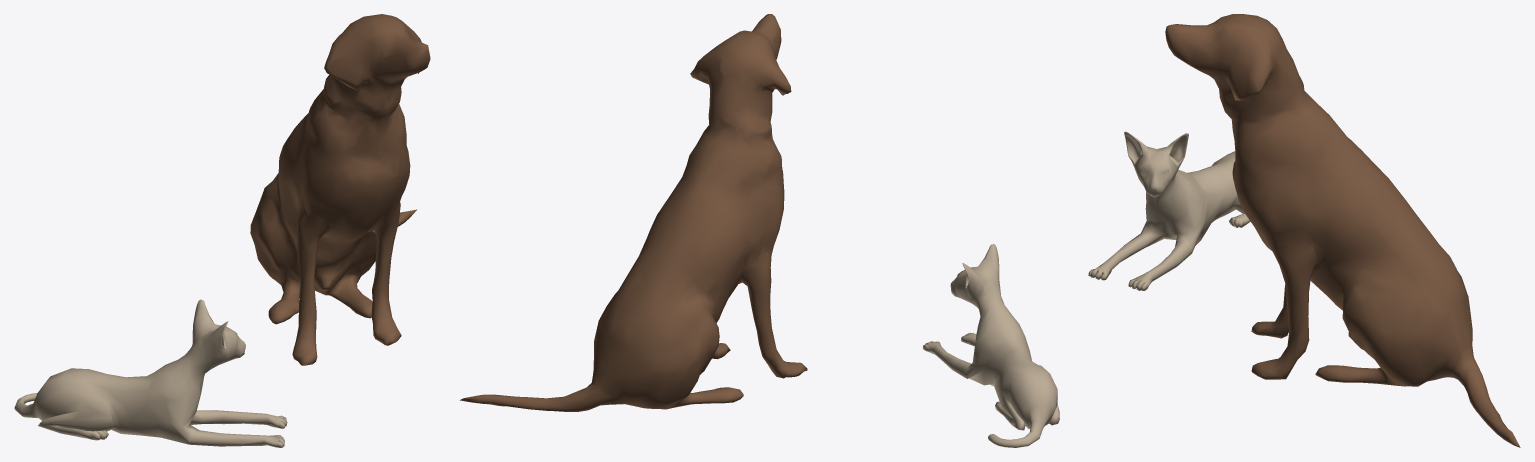
The model's file is cane_gatto.obj.
The picture shows the model from 3 angles, left to right: view 1: azimuth 30°, elevation 25°; view 2: azimuth 150°, elevation 25°; view 3: azimuth 270°, elevation 25°; orthographic projection. The views are drawn at different scales.
Parts seen in each view (by area): view 1: Mesh1 G_1116_Dog_006_Sitting1 Model, Mesh2 Cat_083_055_1 Model; view 2: Mesh1 G_1116_Dog_006_Sitting1 Model, Mesh2 Cat_083_055_1 Model; view 3: Mesh1 G_1116_Dog_006_Sitting1 Model, Mesh2 Cat_083_055_1 Model.
Boxes of the visible parts, x1,y1,x2,y2 form: Mesh1 G_1116_Dog_006_Sitting1 Model: (250,14,430,365); Mesh2 Cat_083_055_1 Model: (14,299,287,447); Mesh1 G_1116_Dog_006_Sitting1 Model: (460,14,807,411); Mesh2 Cat_083_055_1 Model: (922,244,1059,447); Mesh1 G_1116_Dog_006_Sitting1 Model: (1165,14,1520,447); Mesh2 Cat_083_055_1 Model: (1088,131,1250,290).
Bounding box in the file's own units: 43.9 × 27.54 × 31.15.
